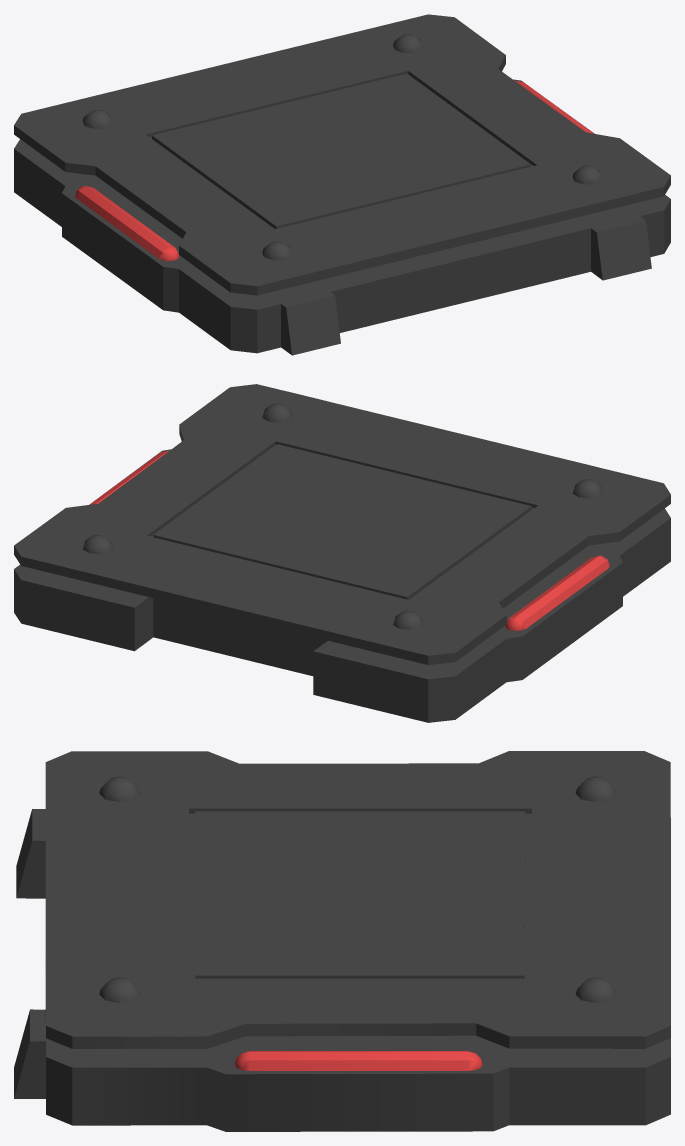
The model's file is SmallArmor.fbx.
The picture shows the model from 3 angles, top to bottom: view 1: azimuth 30°, elevation 25°; view 2: azimuth 150°, elevation 25°; view 3: azimuth 270°, elevation 25°; orthographic projection. The views are drawn at different scales.
Parts seen in each view (by area): view 1: 面板, 底板, 灯条, 螺栓; view 2: 面板, 底板, 灯条, 螺栓; view 3: 面板, 底板, 灯条, 螺栓.
Boxes of the visible parts, x1,y1,x2,y2 form: 面板: (14,14,670,295); 底板: (14,79,670,355); 灯条: (75,80,593,260); 螺栓: (83,34,602,260); 面板: (14,384,670,664); 底板: (14,449,670,722); 灯条: (90,450,609,630); 螺栓: (83,403,602,629); 面板: (45,751,670,1048); 底板: (14,809,670,1131); 灯条: (234,1051,482,1070); 螺栓: (99,776,616,1002).
Size of the model in its own units: 14.12 by 2.3 by 13.15.
